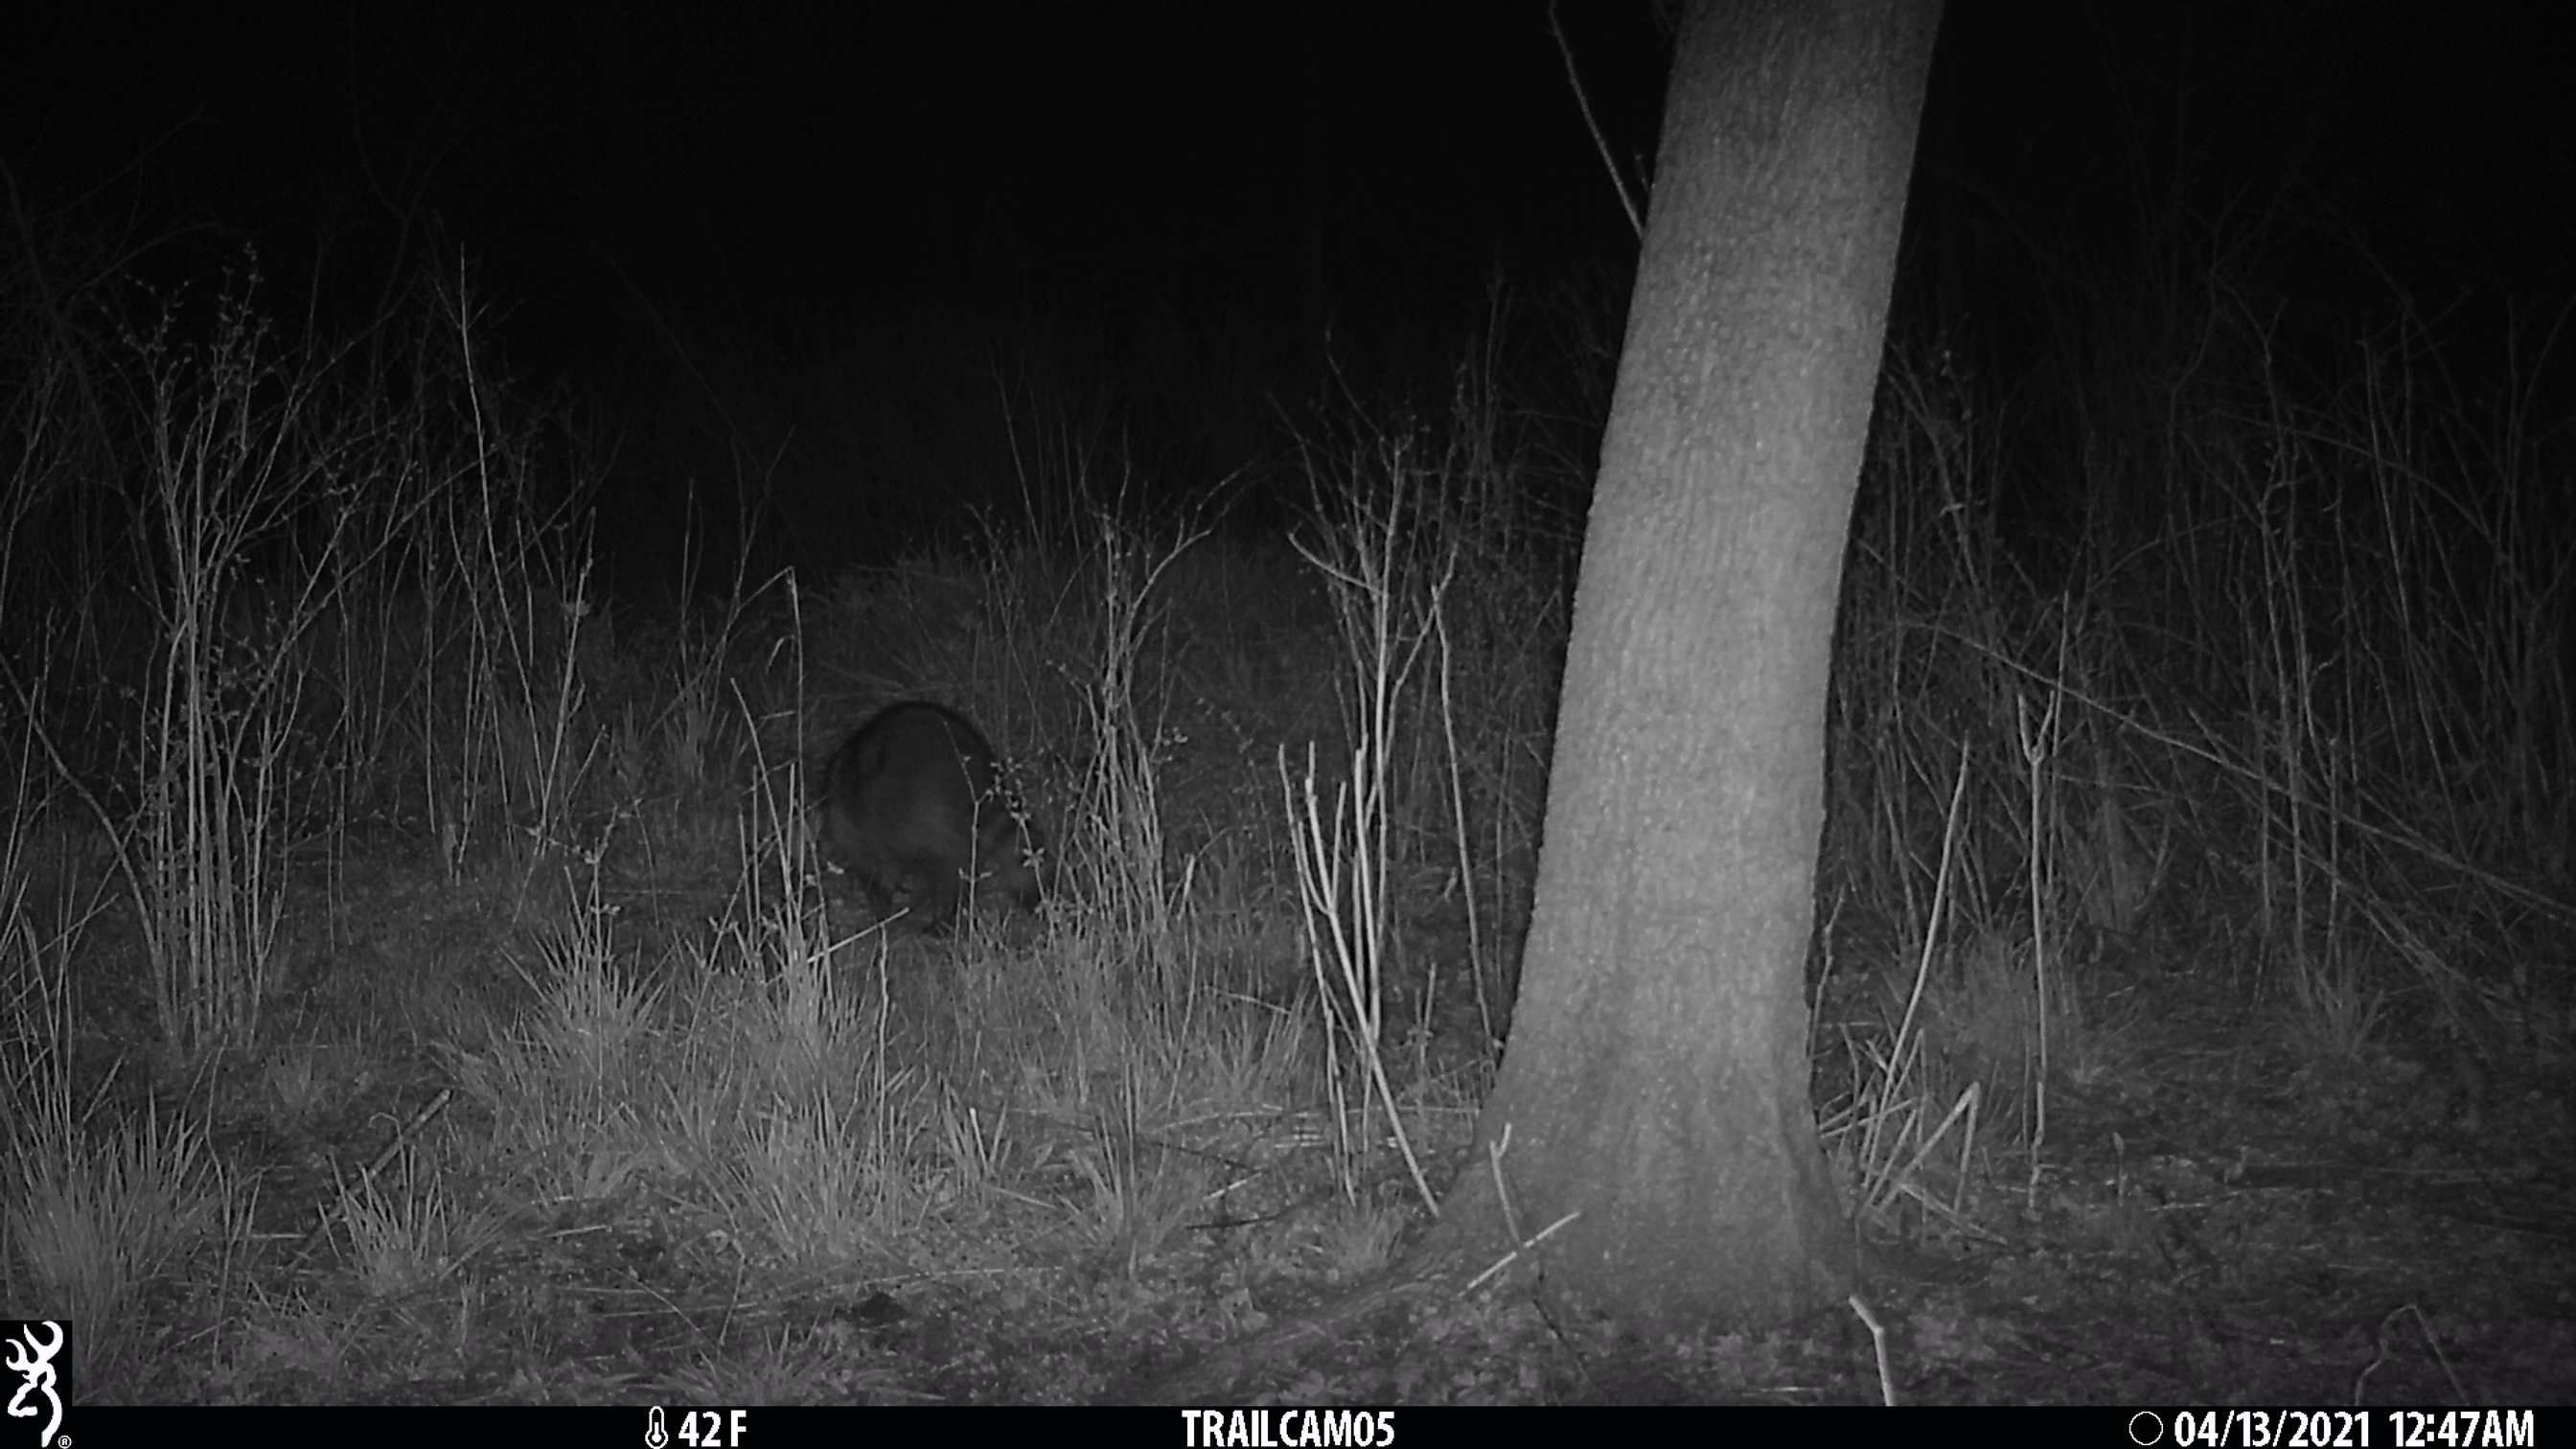Raccoon: (787, 695, 1058, 922)
